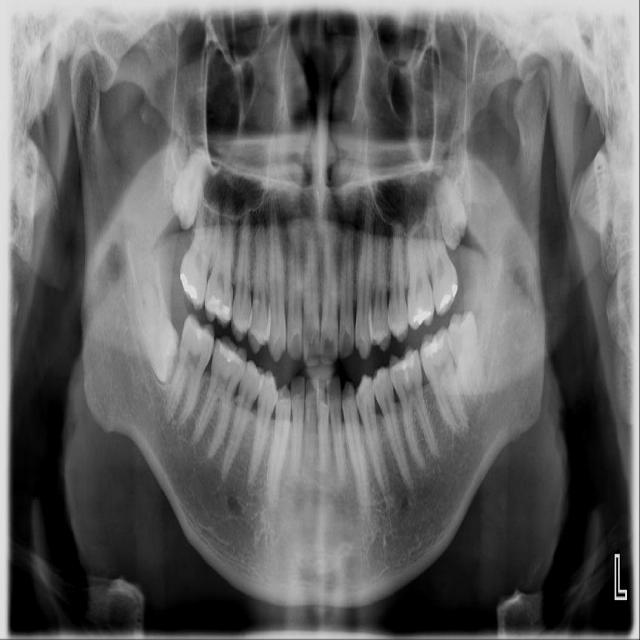Filling: (207, 294, 232, 321), (181, 272, 200, 304), (220, 342, 243, 365), (424, 333, 442, 358), (412, 306, 432, 326), (400, 355, 415, 380), (195, 326, 213, 340), (441, 293, 451, 309), (452, 282, 458, 296)
impacted tooth: (128, 280, 180, 385), (446, 312, 486, 399), (171, 142, 210, 228), (434, 169, 468, 249)
